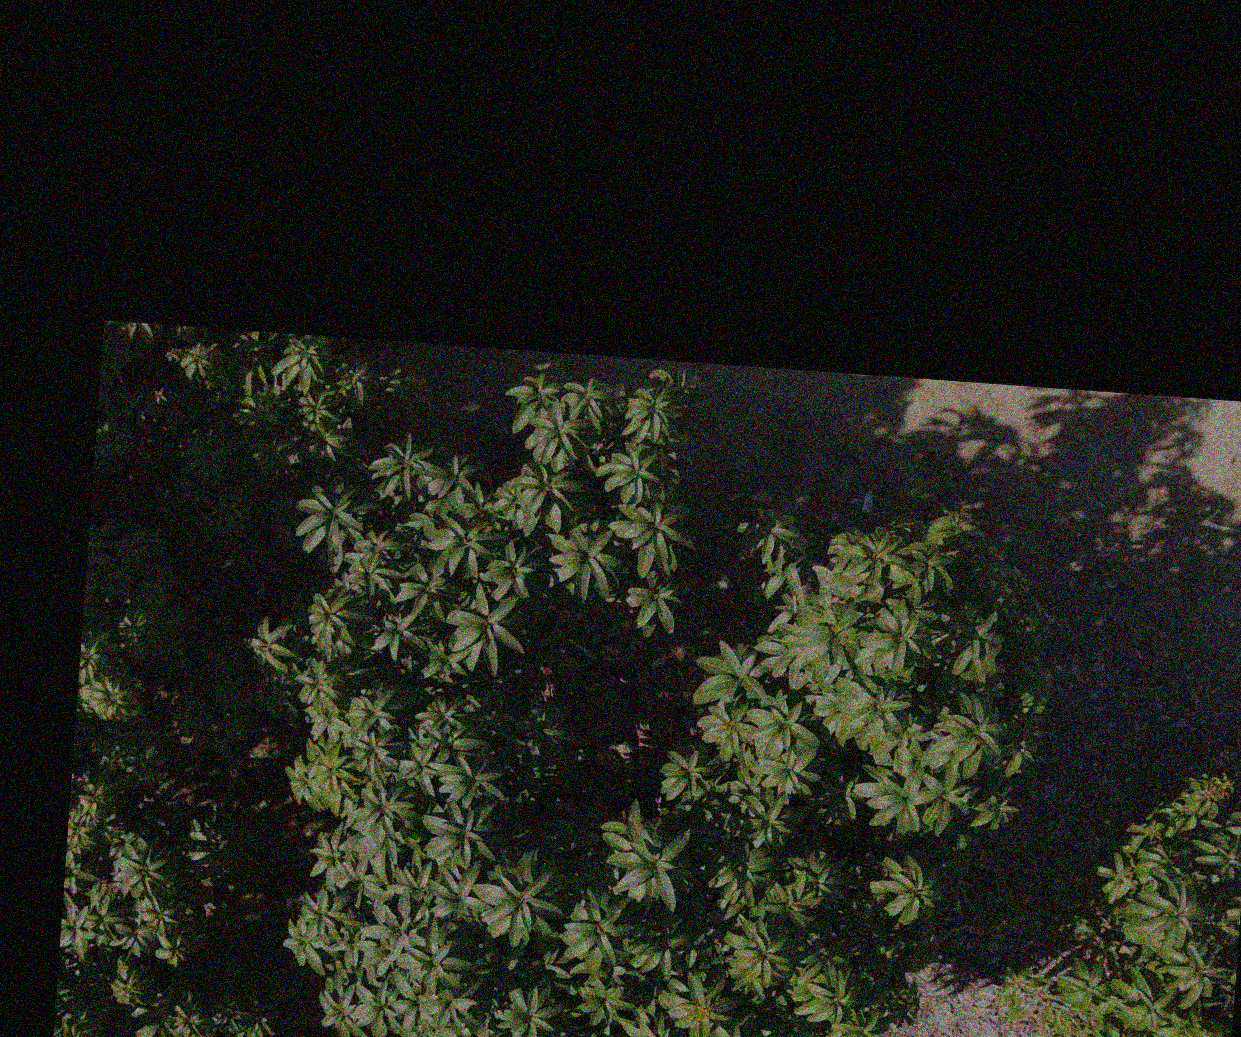flowers: (166, 341, 221, 381)
